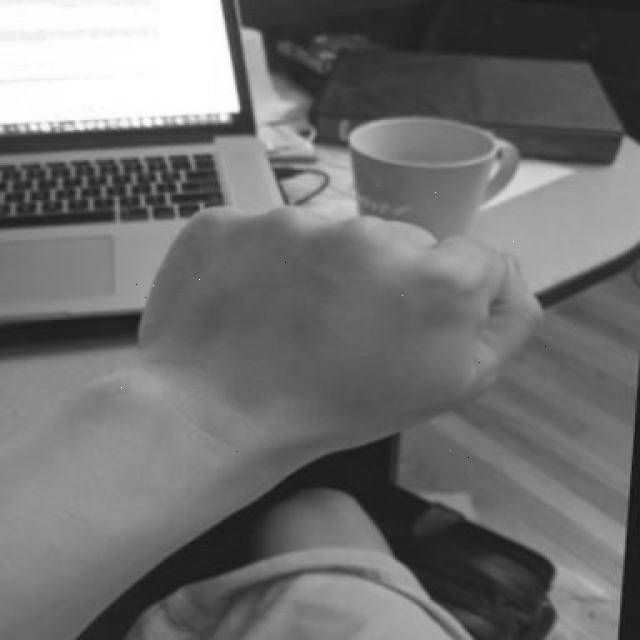A: (113, 181, 562, 467)
